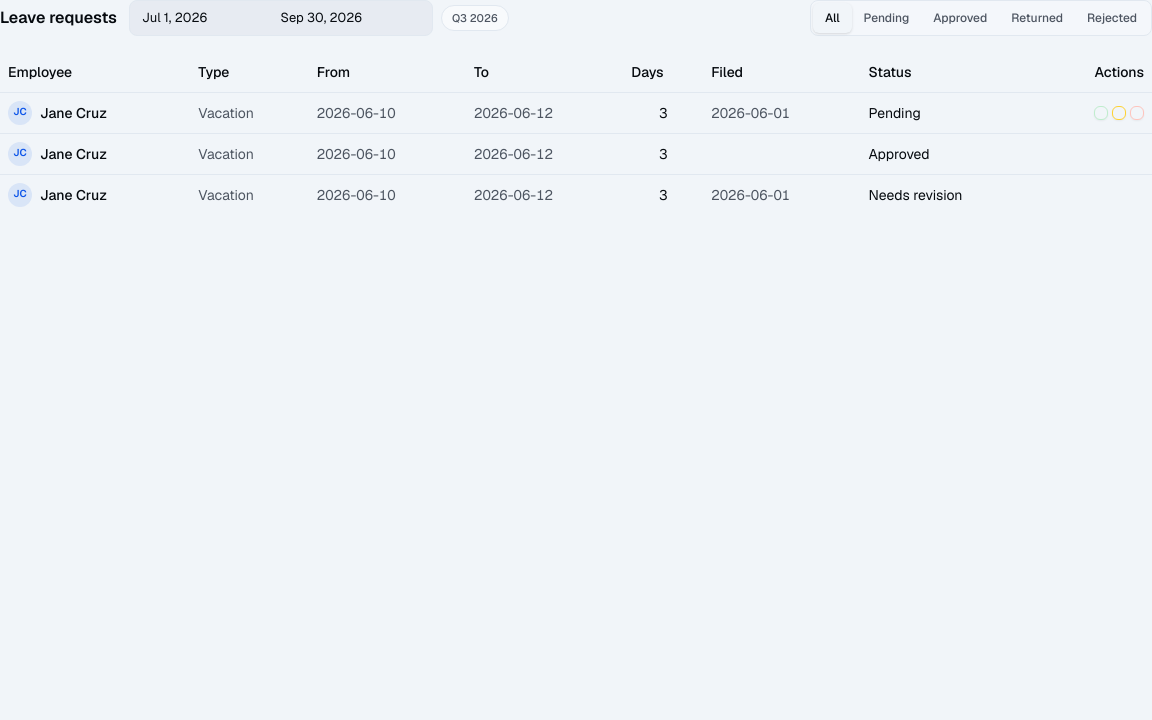
Test: LeaveSection — review actions › the return confirm shows the busy label while the mutation is pending
The width and height of the screenshot is (1152, 720).
# Open the dialog while idle (the trigger is disabled once returning starts).
Click the button with test id "leave-return" at (1119, 112), box [1112,106,1126,120]
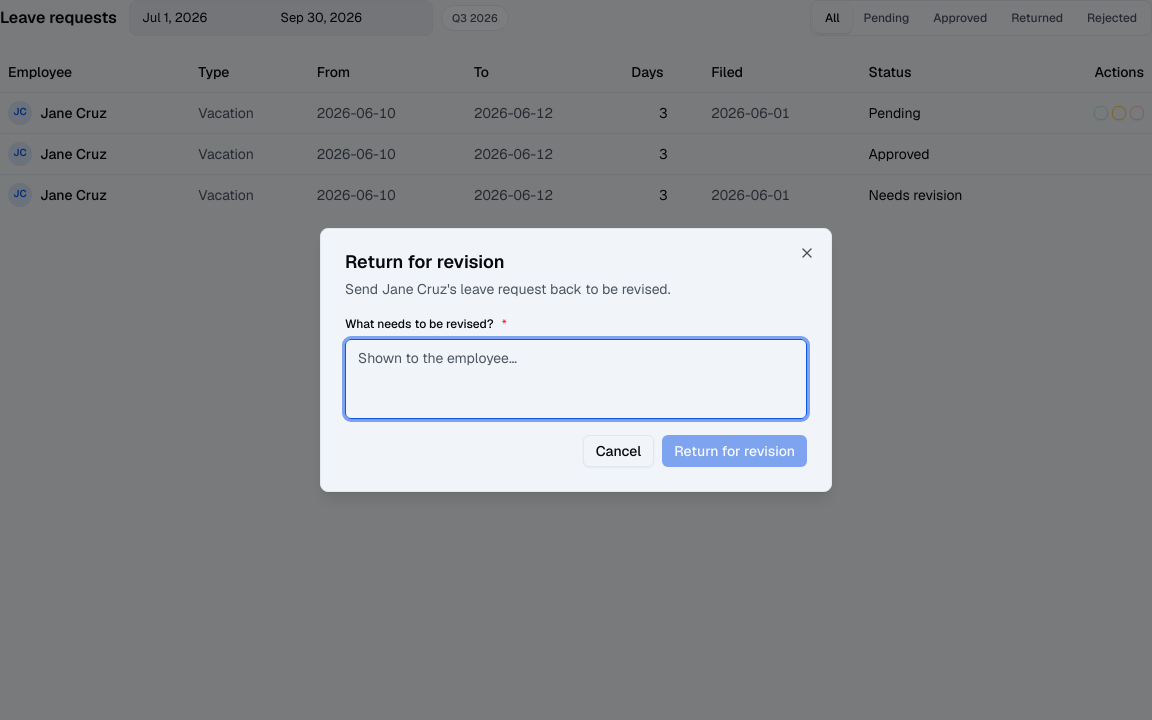
Type "x" into the text box at (576, 379), box [345,339,807,419]
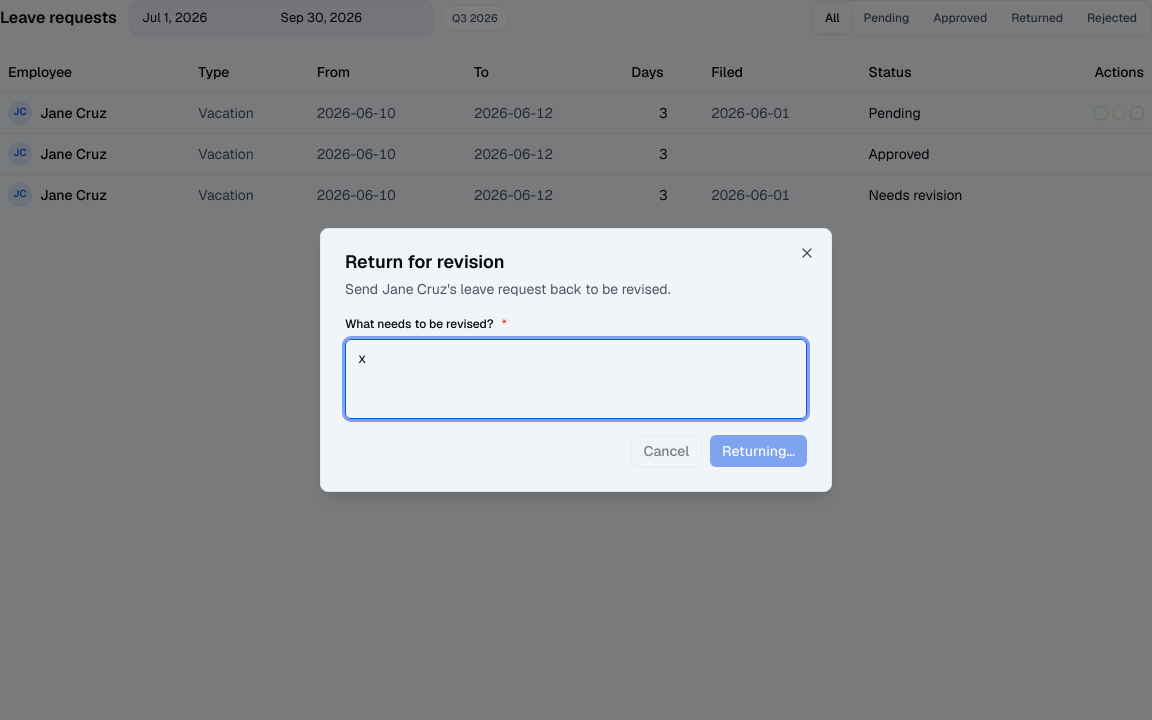
expect the button with test id "leave-review-return" is disabled: met, box [710,435,807,467]
expect the button with test id "leave-review-return" reads "Returning…": met, box [710,435,807,467]
